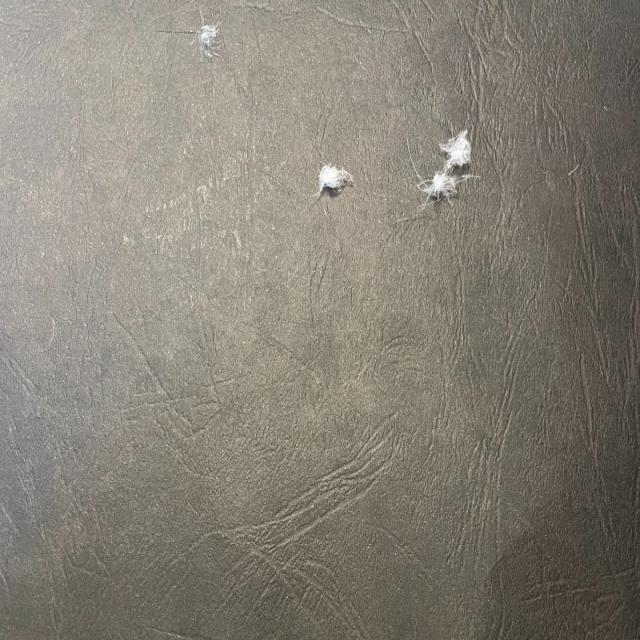feather: (434, 127, 480, 173), (425, 168, 466, 203), (316, 161, 349, 193), (195, 19, 222, 47)
